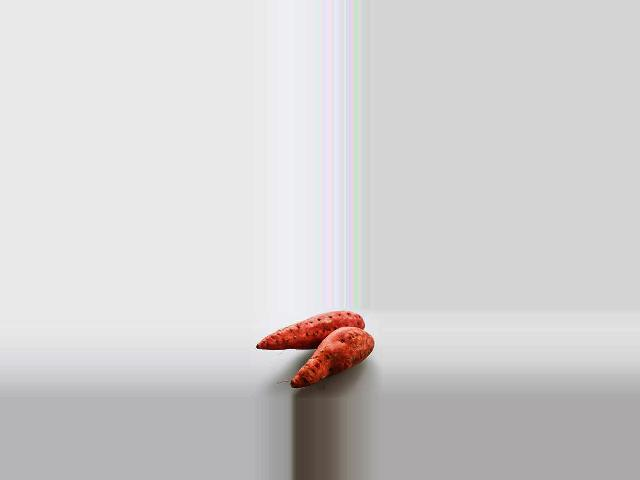sweet_potato: (263, 312, 364, 350)
